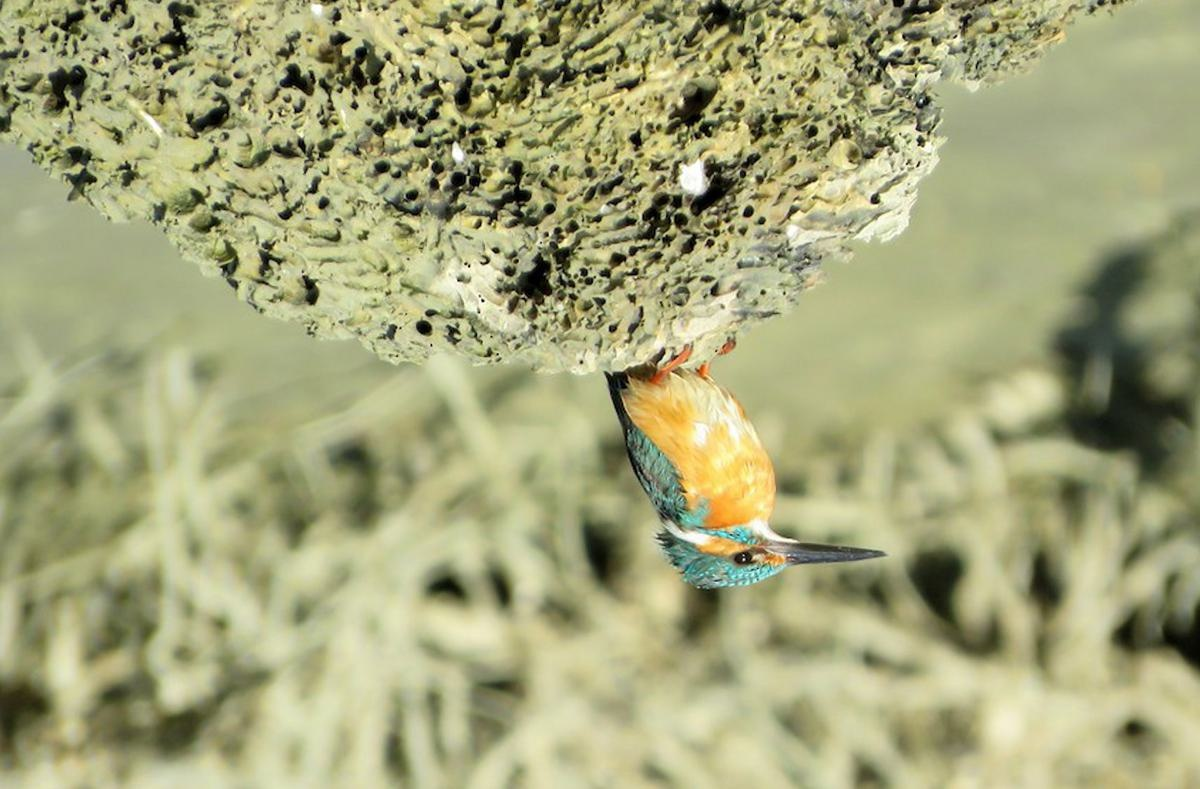kingfisher: (621, 324, 911, 611)
